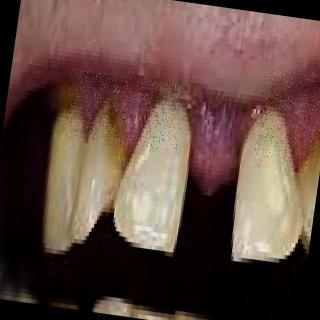Gum Swelling: (74, 68, 150, 139), (269, 84, 320, 146)
maligned: (70, 111, 129, 241)
